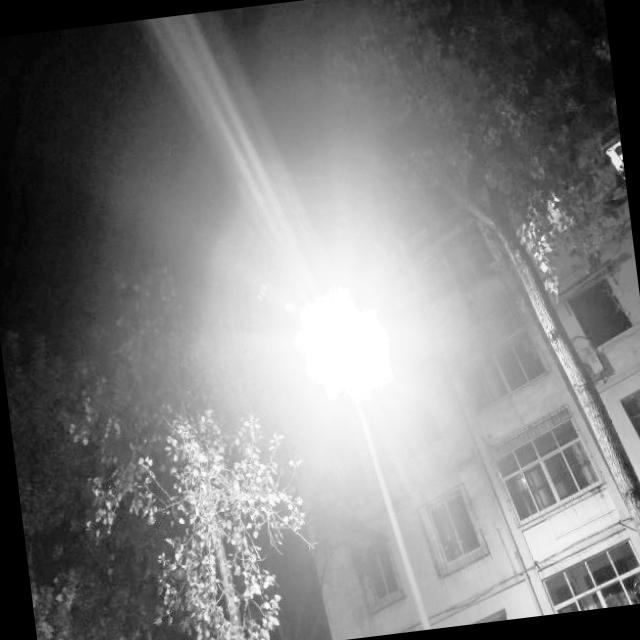Light: (308, 302, 437, 640)
Tree: (423, 45, 640, 621), (138, 358, 275, 640)
